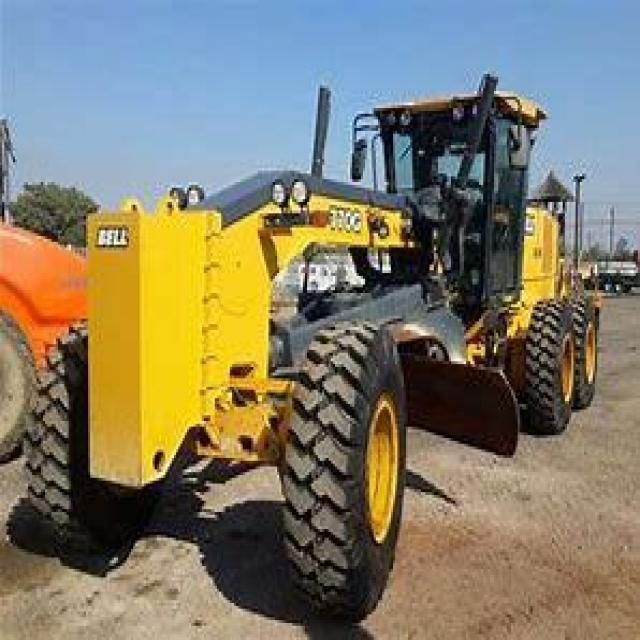Grader: (52, 71, 608, 623)
